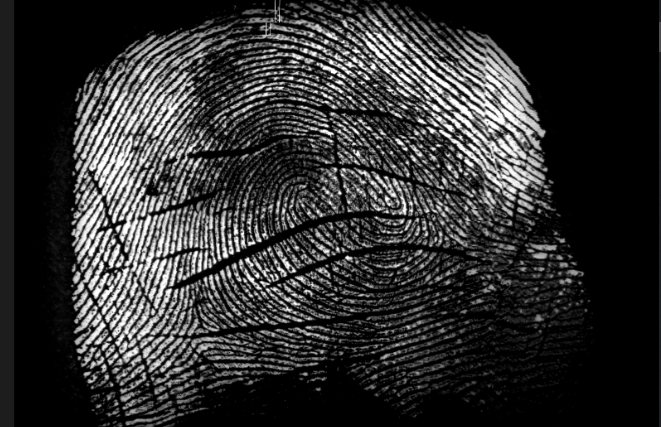nucelo: (291, 191, 320, 221)
verticilo: (189, 307, 218, 336), (436, 227, 463, 251)
